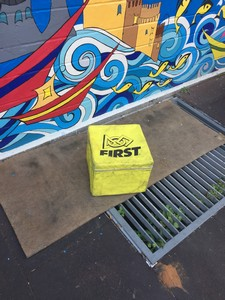cube: (87, 125, 151, 197)
